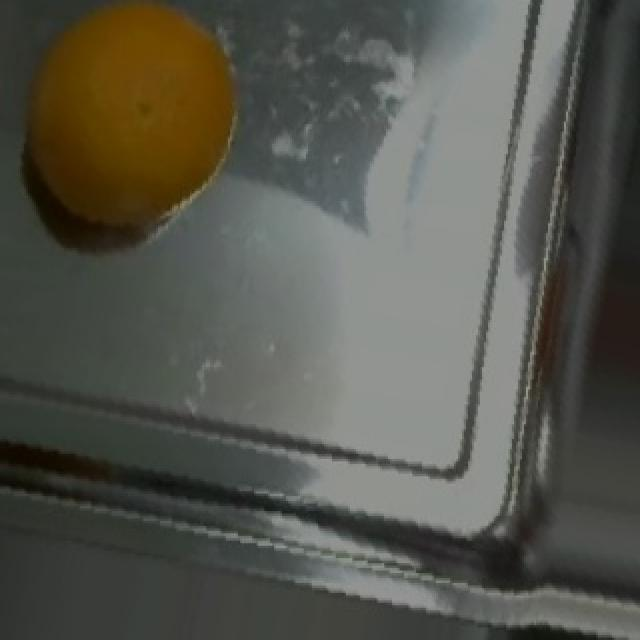Fruit: (4, 0, 270, 251)
